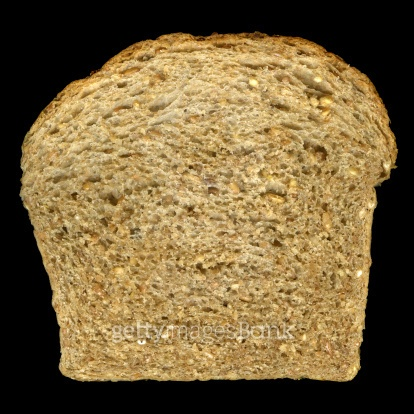slice of bread: (22, 28, 398, 384)
